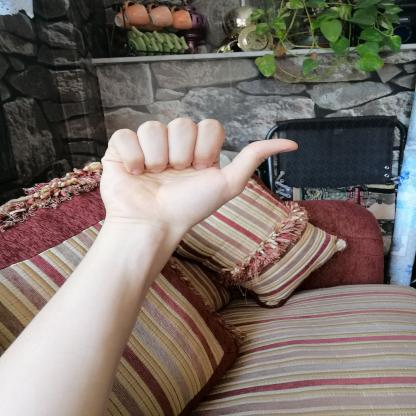DAD: (87, 108, 308, 238)
